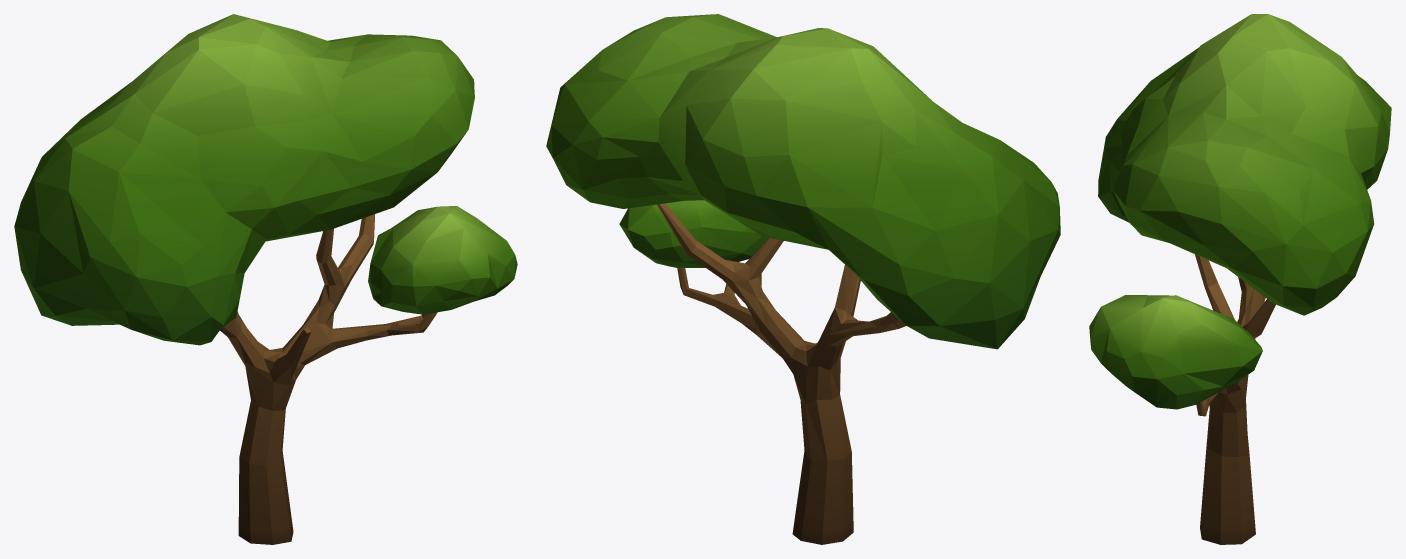
The model's file is Tree_09.fbx.
3 renders of one model, left to right at view 1: azimuth 30°, elevation 25°; view 2: azimuth 150°, elevation 25°; view 3: azimuth 270°, elevation 25°, orthographic. The views are drawn at different scales.
Parts seen in each view (by area): view 1: Tree_09; view 2: Tree_09; view 3: Tree_09.
Boxes of the visible parts, x1,y1,x2,y2 form: Tree_09: (14,14,517,544); Tree_09: (546,14,1060,544); Tree_09: (1089,14,1391,544).
Bounding box in the file's own units: 542 × 578 × 319.
